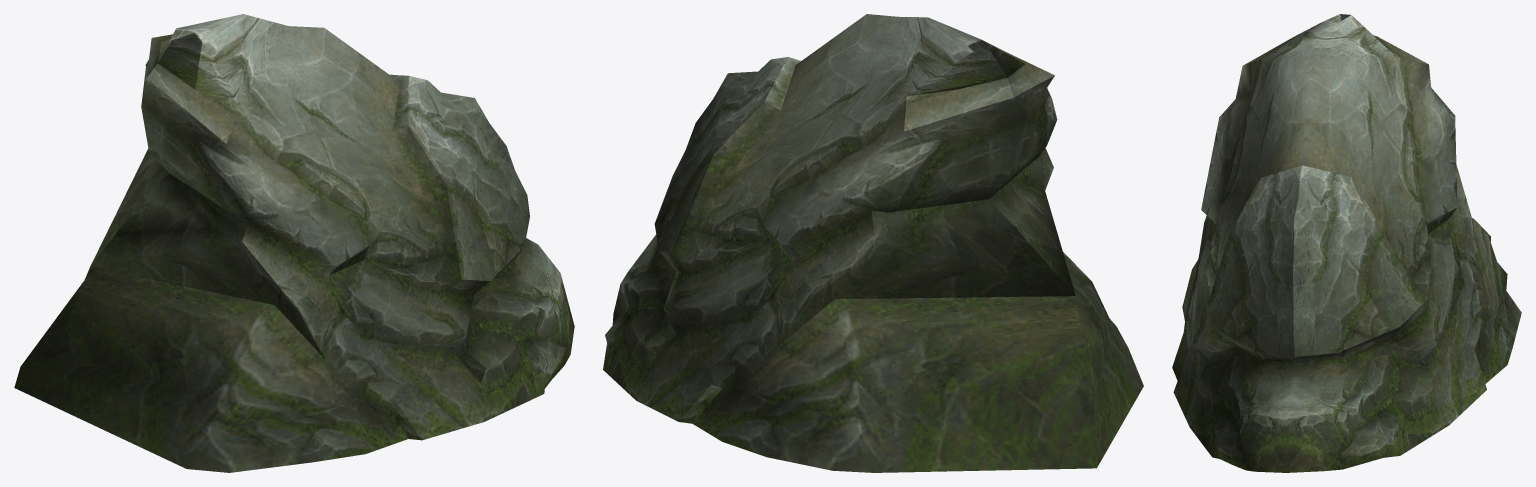
Rendered from 3004_Item_shitou_12.FBX.
3 views of the same model, side by side, from view 1: azimuth 30°, elevation 25°; view 2: azimuth 150°, elevation 25°; view 3: azimuth 270°, elevation 25° (orthographic). The views are drawn at different scales.
Visible parts, largest first — view 1: 3004_Item_shitou_12; view 2: 3004_Item_shitou_12; view 3: 3004_Item_shitou_12.
Part boxes in pixels (box(x1,y1,x2,y2)): 3004_Item_shitou_12: box(14, 14, 574, 472); 3004_Item_shitou_12: box(603, 14, 1143, 472); 3004_Item_shitou_12: box(1172, 14, 1521, 472).
Size of the model in its own units: 370 by 274 by 262.
